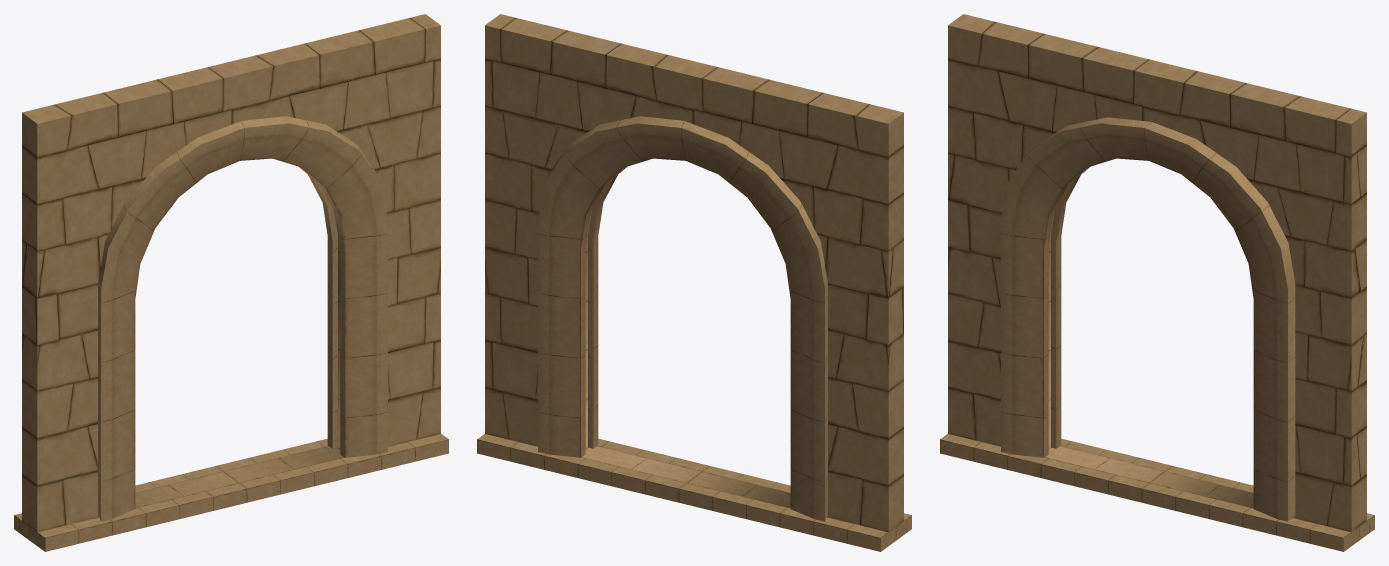
File: TatuterraTemple_Past_DoorFrame.fbx
The picture shows the model from 3 angles, left to right: view 1: azimuth 30°, elevation 25°; view 2: azimuth 150°, elevation 25°; view 3: azimuth 330°, elevation 25°; orthographic projection.
Parts seen in each view (by area): view 1: TatuterraTemple_Past_DoorFrame; view 2: TatuterraTemple_Past_DoorFrame; view 3: TatuterraTemple_Past_DoorFrame.
Part boxes in pixels (box(x1,y1,x2,y2)): TatuterraTemple_Past_DoorFrame: box(14, 14, 448, 551); TatuterraTemple_Past_DoorFrame: box(477, 14, 911, 551); TatuterraTemple_Past_DoorFrame: box(940, 14, 1374, 551).
Bounding box in the file's own units: 600 × 600 × 80.
